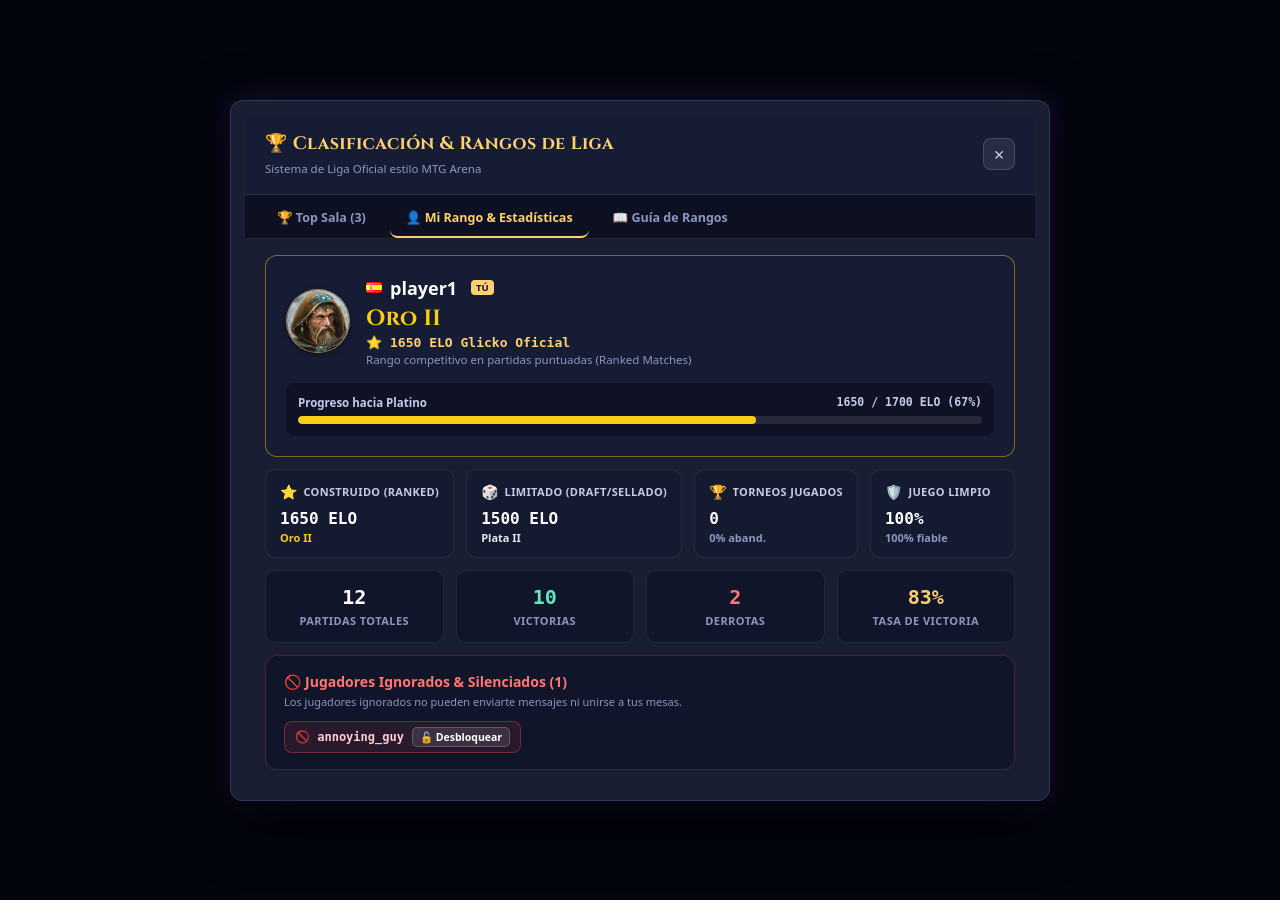
Test case: LeaderboardModal Component › renders ignored users in my profile and allows unignoring
Expected: the heading "🚫 Jugadores Ignorados & Silenciados (1)" is shown, [284,672,567,690]
Expected: the text "🚫 annoying_guy" is shown, [295,730,404,744]
Click unlock / unignore
What coordinates should you click on to do the following:
click the button "🔓 Desbloquear"
I would click on:
 (461, 736)
Its box is [412,726,510,746].
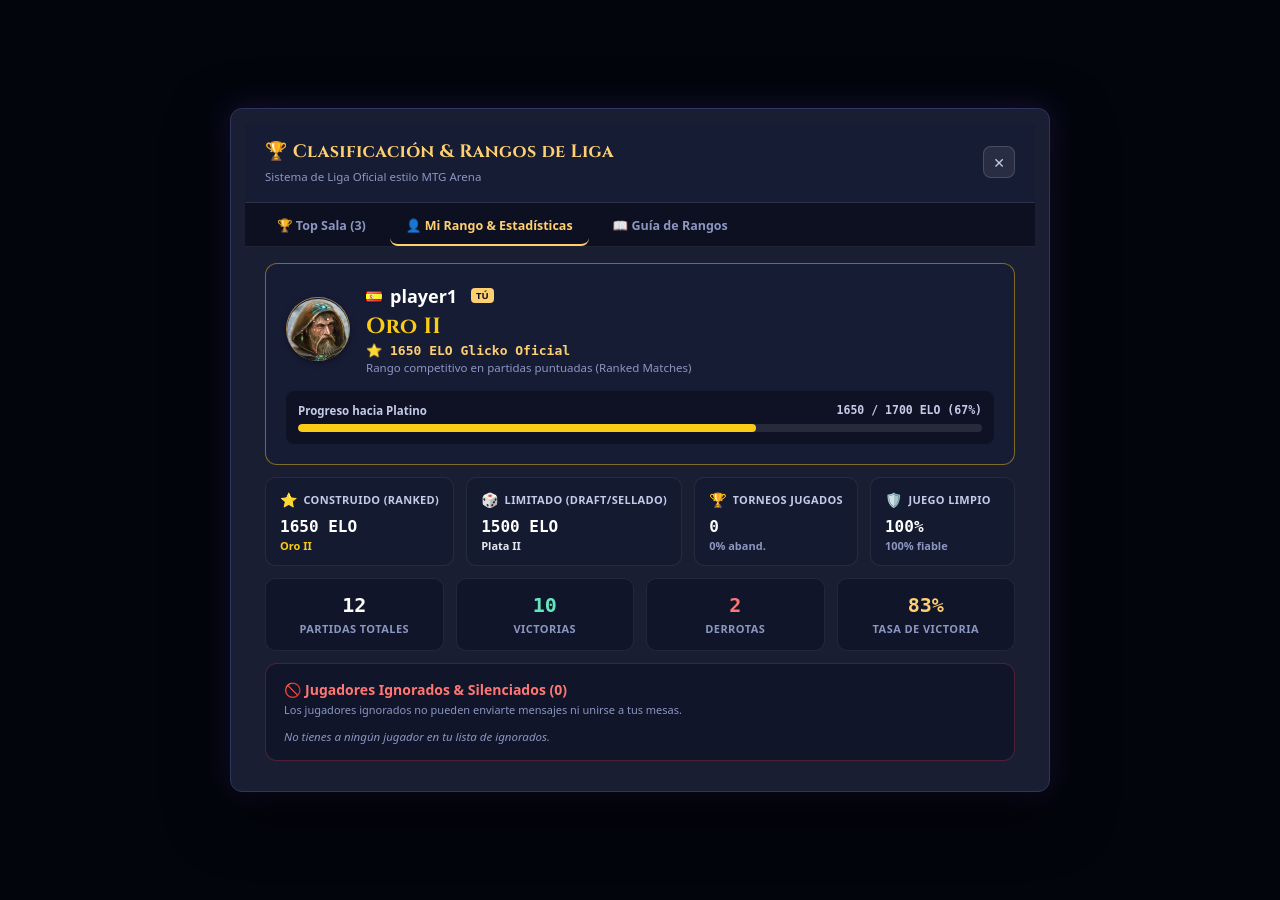
Result: the text "No tienes a ningún jugador en tu lista de ignorados." is shown at [284,729,550,744]
